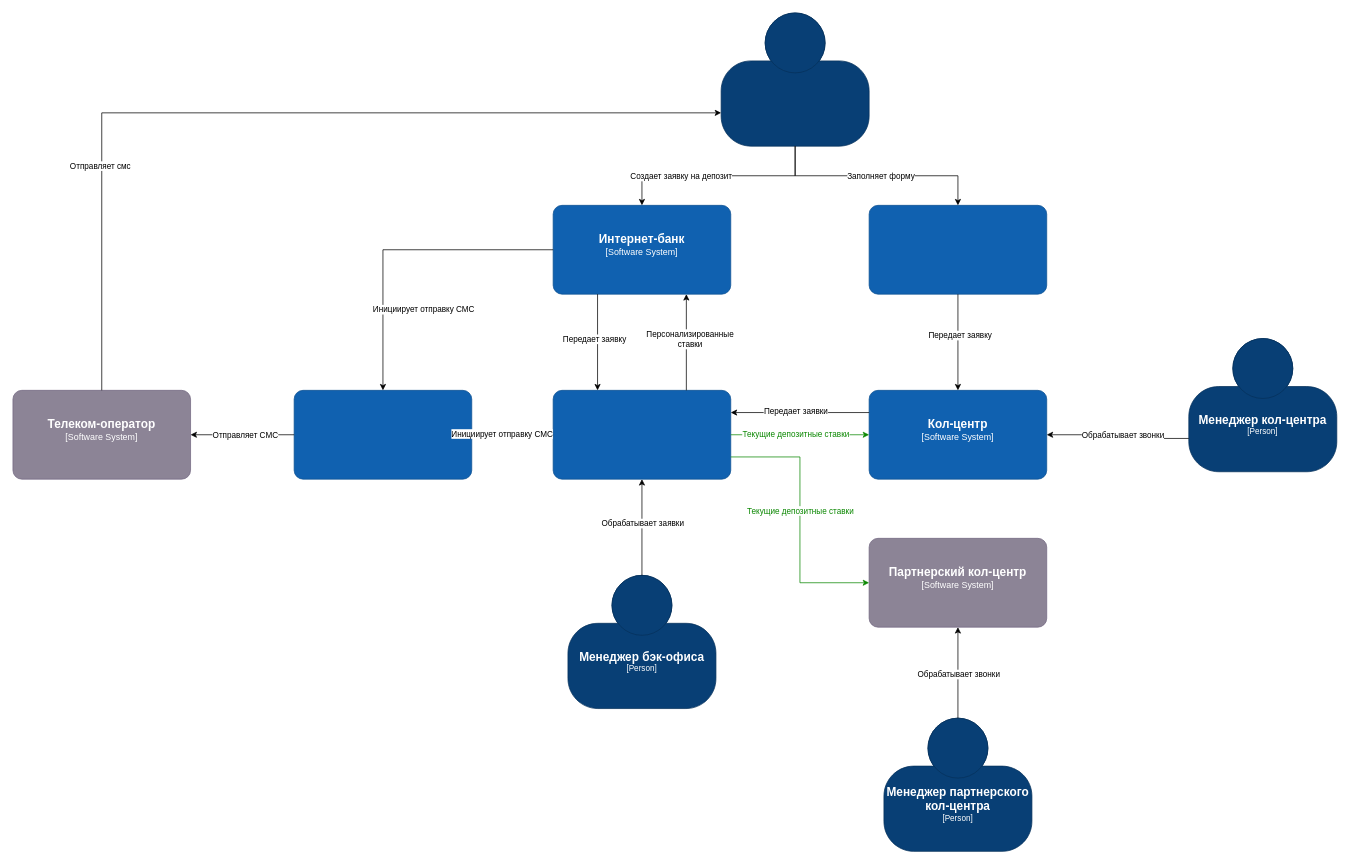
The diagram is 1350 pixels wide and 864 high, and some of its shapes have lost their labels. The box of each missing label's shape, as (x1, y1, x2, y2) in pixels:
АБС [Software System]: (552, 390, 731, 479)
Пользователь [Person]: (720, 12, 869, 146)
Сайт [Software System]: (868, 205, 1047, 294)
СМС-шлюз телеком-оператора [Software System]: (293, 390, 472, 479)
